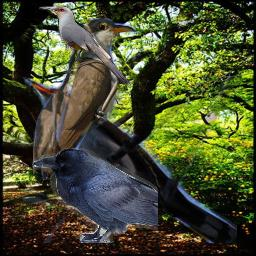Crow: (32, 148, 158, 243)
Cuckoo: (23, 76, 237, 243), (33, 18, 162, 180), (39, 5, 133, 88)
